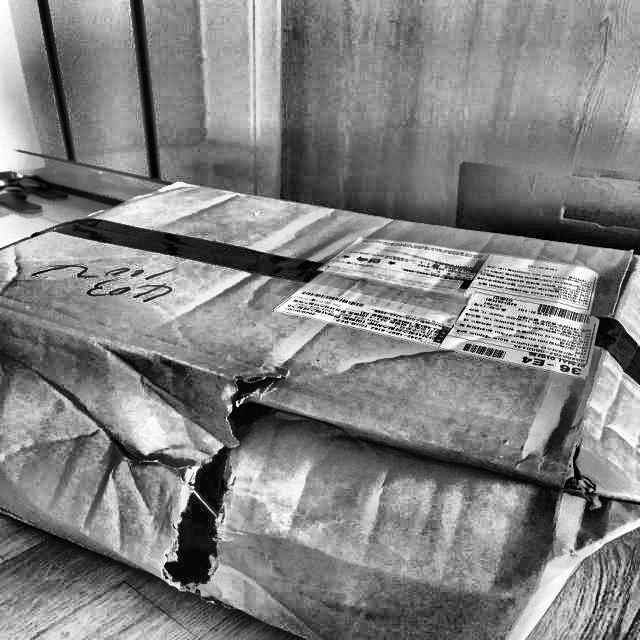box: (0, 170, 639, 639)
hole: (140, 367, 304, 609)
